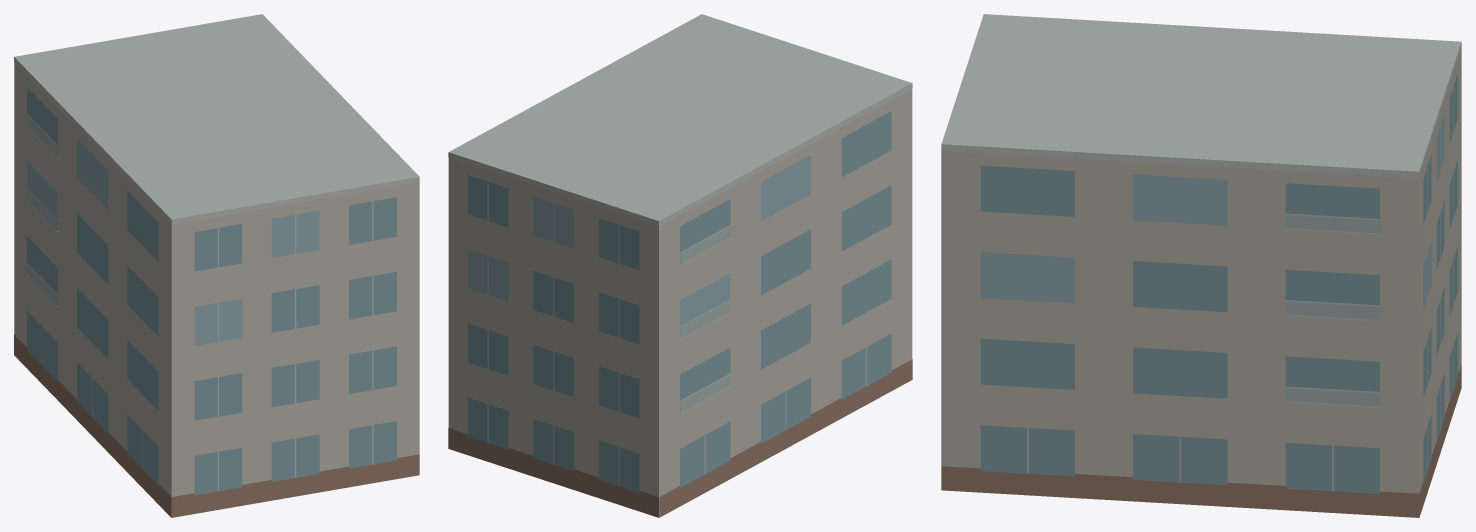
File: survey-upis-32849566.glb
3 views of the same model, side by side, from view 1: azimuth 30°, elevation 25°; view 2: azimuth 150°, elevation 25°; view 3: azimuth 270°, elevation 25° (orthographic). The views are drawn at different scales.
Parts seen in each view (by area): view 1: survey-upis-32849566.tmp; view 2: survey-upis-32849566.tmp; view 3: survey-upis-32849566.tmp.
Boxes of the visible parts, x1,y1,x2,y2 form: survey-upis-32849566.tmp: [14, 14, 419, 517]; survey-upis-32849566.tmp: [448, 14, 912, 517]; survey-upis-32849566.tmp: [941, 14, 1461, 517].
Bounding box in the file's own units: 12.67 × 12.95 × 17.65.
